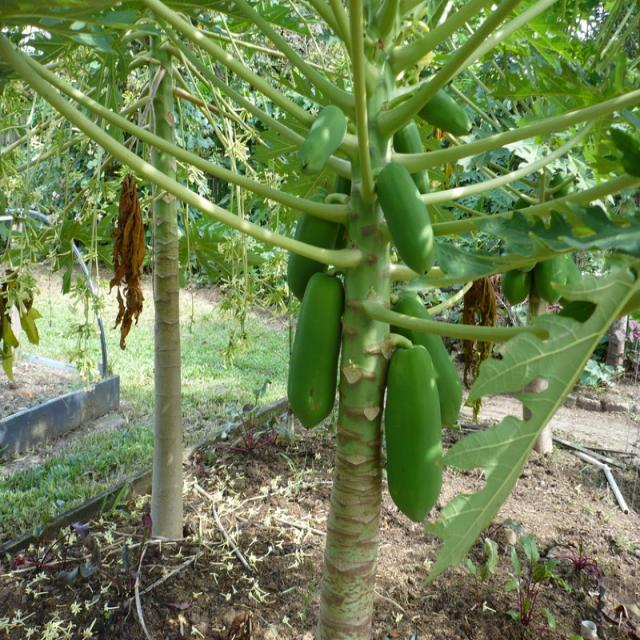Pepaya unrippen: (387, 356, 444, 525), (284, 280, 347, 426), (370, 168, 434, 278)
